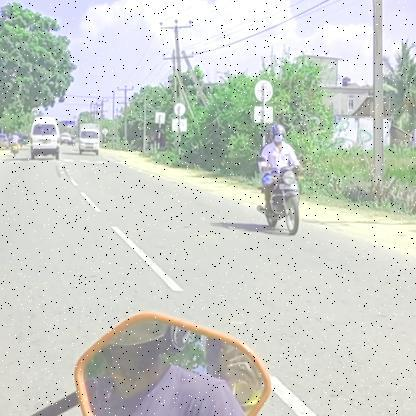motorcycle: (251, 166, 309, 240)
